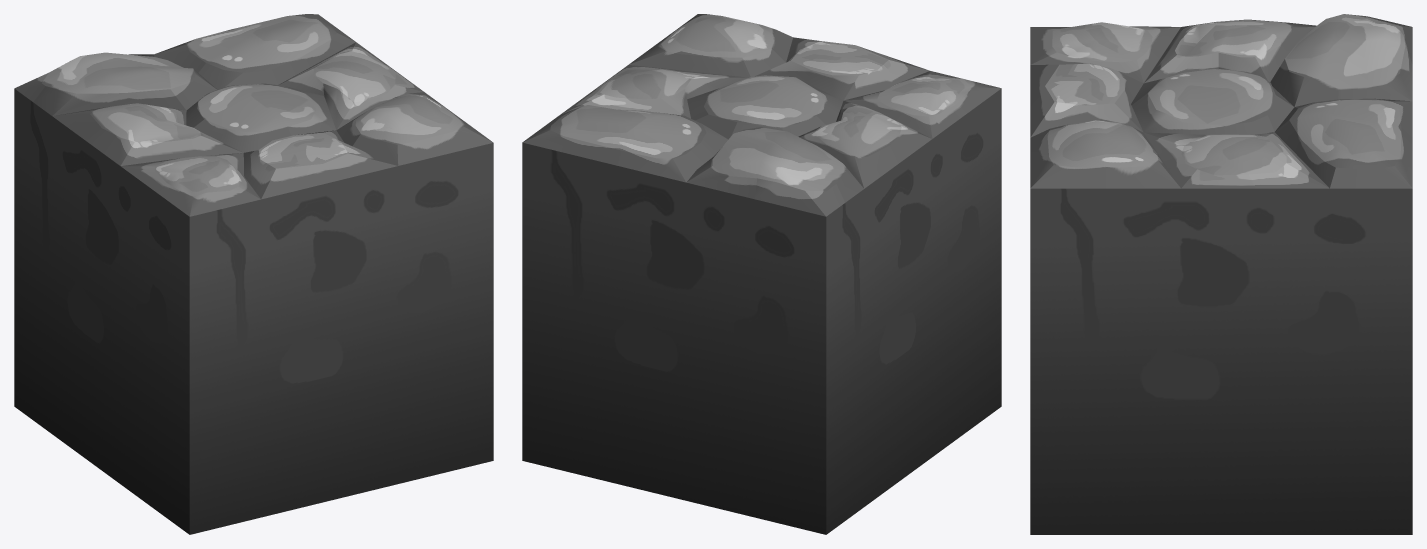
File: dungeonStoneyFloorTile_Variant1_V2.fbx
3 views of the same model, side by side, from view 1: azimuth 30°, elevation 25°; view 2: azimuth 150°, elevation 25°; view 3: azimuth 270°, elevation 25° (orthographic). The views are drawn at different scales.
Parts seen in each view (by area): view 1: dungeonFloorTileV2; view 2: dungeonFloorTileV2; view 3: dungeonFloorTileV2.
Part boxes in pixels (x1,y1,x2,y2): dungeonFloorTileV2: (14,14,493,534); dungeonFloorTileV2: (522,14,1001,534); dungeonFloorTileV2: (1030,14,1412,534).
Bounding box in the file's own units: 1 × 1.08 × 1.
Materials: 1 (1 with a texture image).
